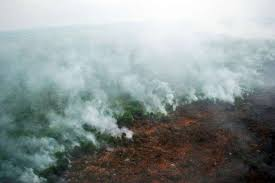smoke: (3, 1, 275, 180)
